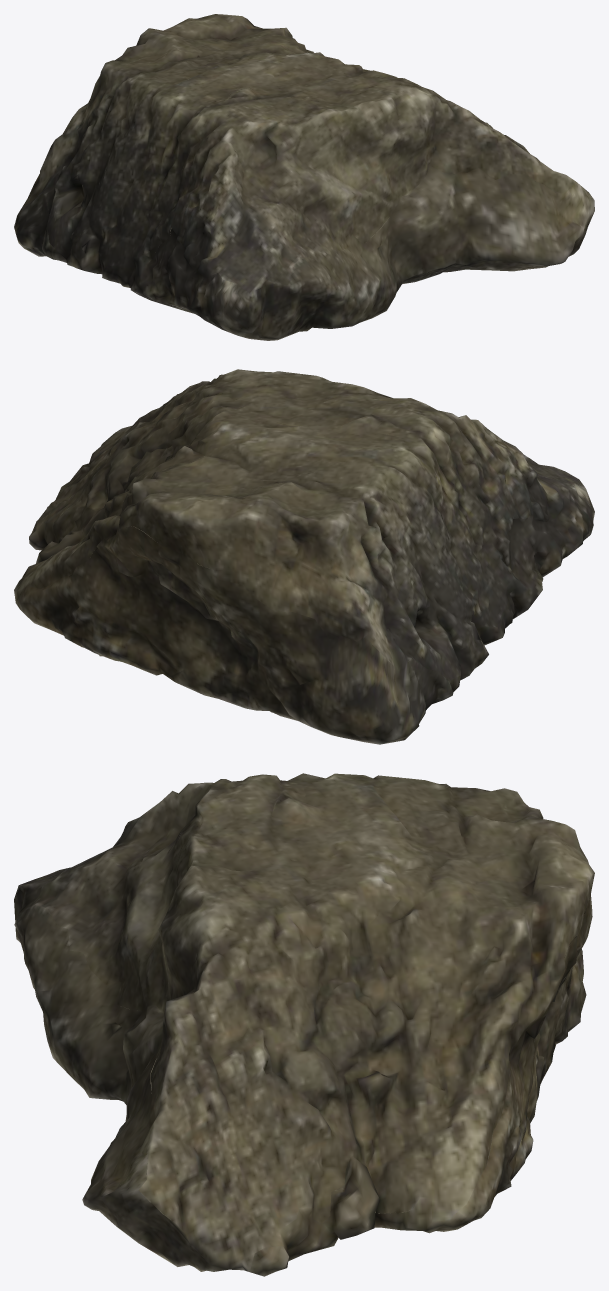
The model's file is moss_stone_8.glb.
The picture shows the model from 3 angles, top to bottom: view 1: azimuth 30°, elevation 25°; view 2: azimuth 150°, elevation 25°; view 3: azimuth 270°, elevation 25°; orthographic projection. The views are drawn at different scales.
Visible parts, largest first — view 1: moss_stone_8; view 2: moss_stone_8; view 3: moss_stone_8.
Boxes of the visible parts, left/top/right/bottom form: moss_stone_8: left=14, top=14, right=594, bottom=340; moss_stone_8: left=14, top=369, right=594, bottom=744; moss_stone_8: left=14, top=773, right=594, bottom=1276.
Bounding box in the file's own units: 1 × 0.439 × 0.815.
1 material, 1 textured.
